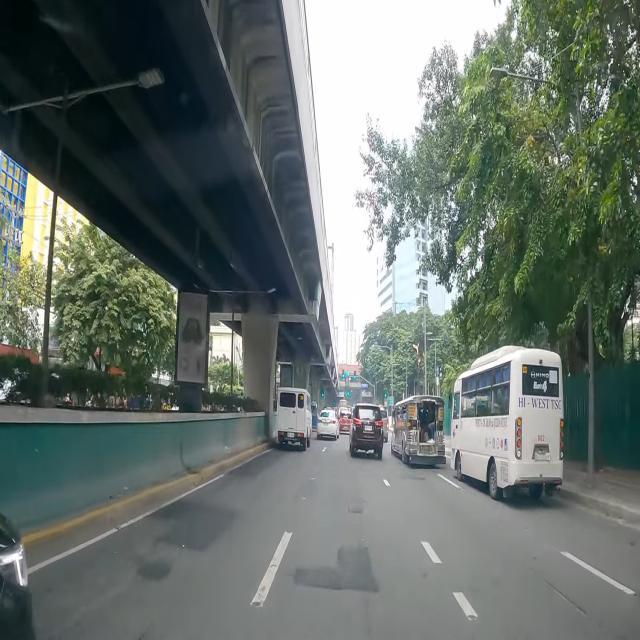car: (349, 403, 384, 460), (316, 406, 339, 439), (339, 411, 352, 434)
jeepney: (450, 346, 564, 500), (390, 394, 446, 464)
tricycle: (310, 401, 318, 432)
truck: (276, 388, 312, 450)
